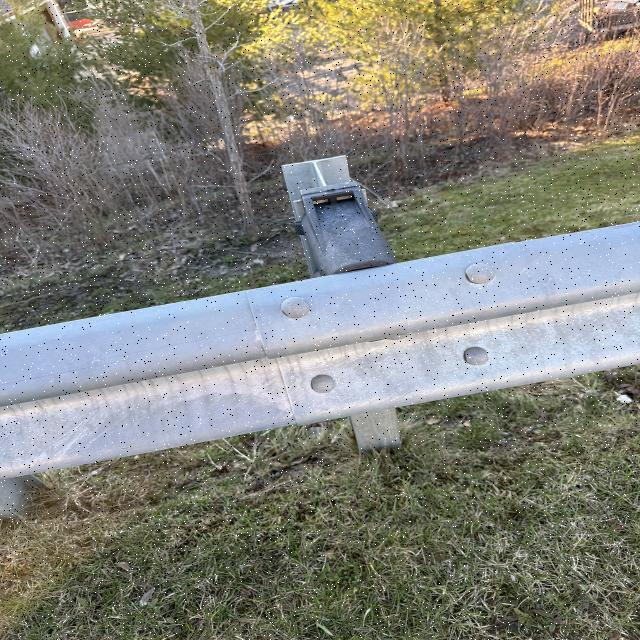Guard rail: (34, 233, 640, 455)
